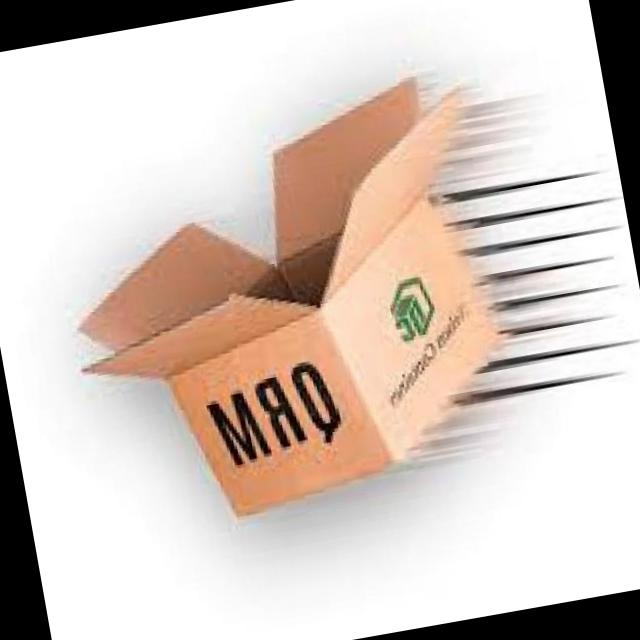box: (44, 69, 529, 538)
